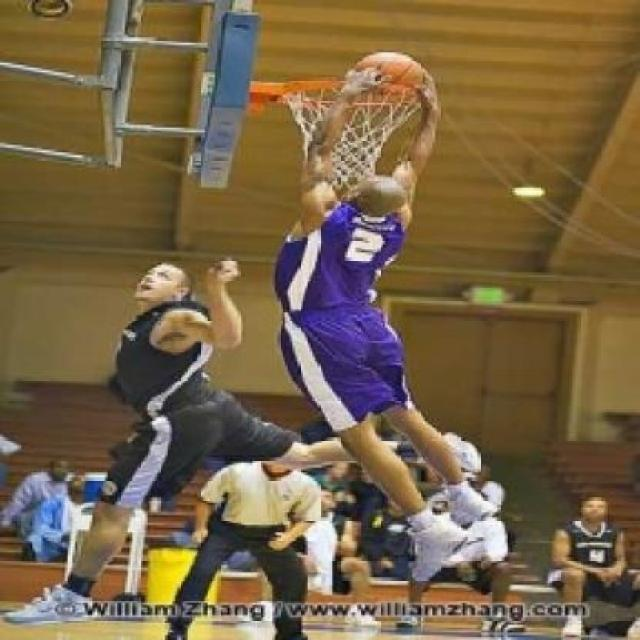basketball: (344, 49, 432, 102)
rim: (280, 78, 424, 182)
